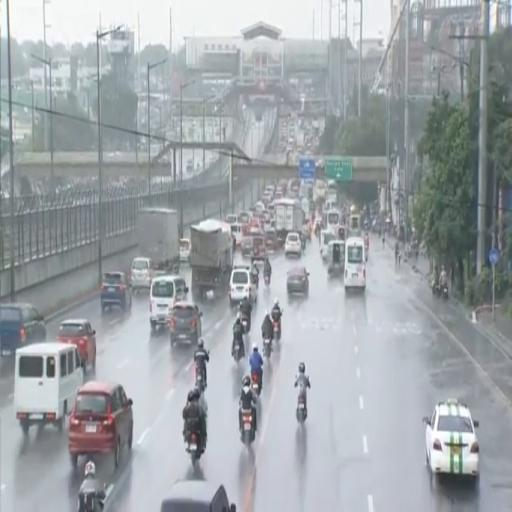car: (69, 381, 133, 468), (423, 399, 479, 482), (0, 303, 46, 356), (161, 480, 236, 511), (150, 276, 188, 332), (57, 318, 96, 369), (170, 301, 202, 347), (100, 271, 131, 313), (230, 266, 257, 307), (131, 258, 153, 291), (287, 266, 309, 295), (251, 234, 266, 262), (285, 233, 302, 257), (265, 228, 278, 250), (231, 223, 243, 246), (180, 239, 191, 262), (241, 236, 252, 257), (226, 214, 237, 223)
motorcycle: (77, 491, 104, 511), (186, 431, 202, 463), (242, 410, 255, 445), (297, 387, 306, 424), (195, 365, 205, 393), (233, 342, 244, 362), (241, 313, 250, 333), (252, 373, 260, 395), (273, 319, 280, 341), (264, 339, 272, 358), (432, 282, 439, 297), (441, 285, 448, 300), (264, 274, 270, 286)
truck: (190, 219, 233, 299), (137, 207, 179, 275), (274, 199, 303, 243)
